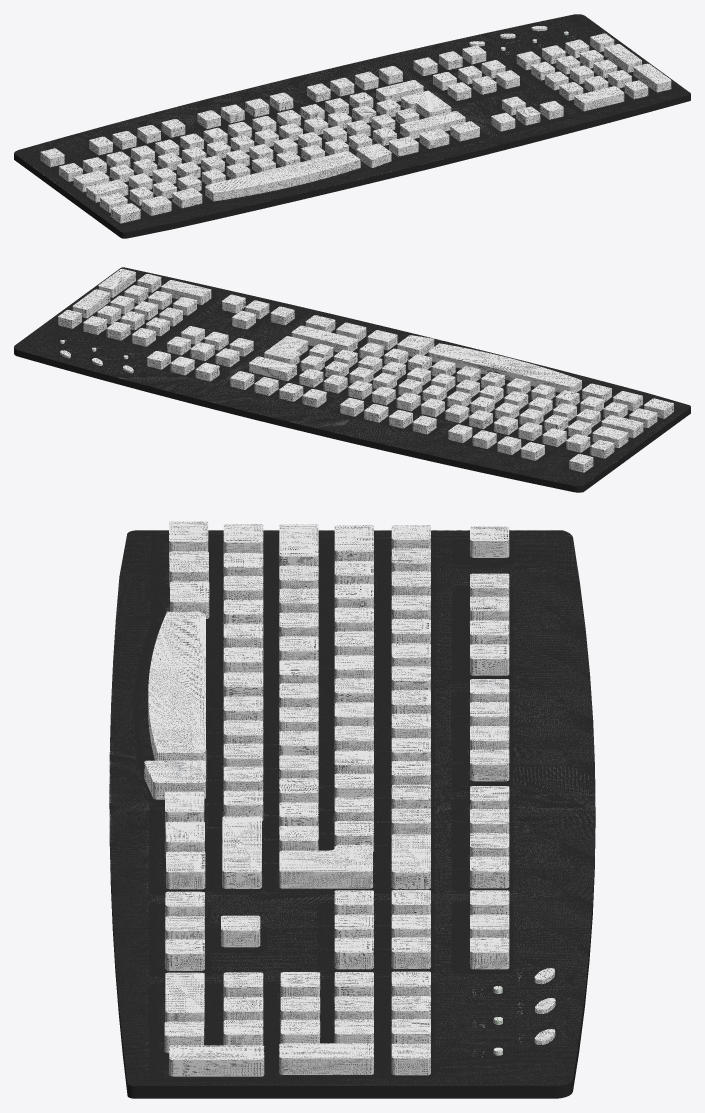
Rendered from keyboard2.dae.
3 views of the same model, one above another, from view 1: azimuth 30°, elevation 25°; view 2: azimuth 150°, elevation 25°; view 3: azimuth 270°, elevation 25° (orthographic). The views are drawn at different scales.
Visible parts, largest first — view 1: Keyboard_Top_USA (×11), Keyboard_Bottom; view 2: Keyboard_Top_USA (×11), Keyboard_Bottom; view 3: Keyboard_Top_USA (×19), Keyboard_Bottom.
Boxes of the visible parts, bbox=[...] form: Keyboard_Top_USA (×11): bbox=[14, 14, 690, 232]; Keyboard_Bottom: bbox=[14, 94, 690, 238]; Keyboard_Top_USA (×11): bbox=[14, 267, 690, 486]; Keyboard_Bottom: bbox=[14, 348, 690, 492]; Keyboard_Top_USA (×19): bbox=[109, 524, 595, 1085]; Keyboard_Bottom: bbox=[109, 797, 595, 1098].
Size of the model in its own units: 17.81 by 6.58 by 0.4375.
Materials: 8 (4 with a texture image).
